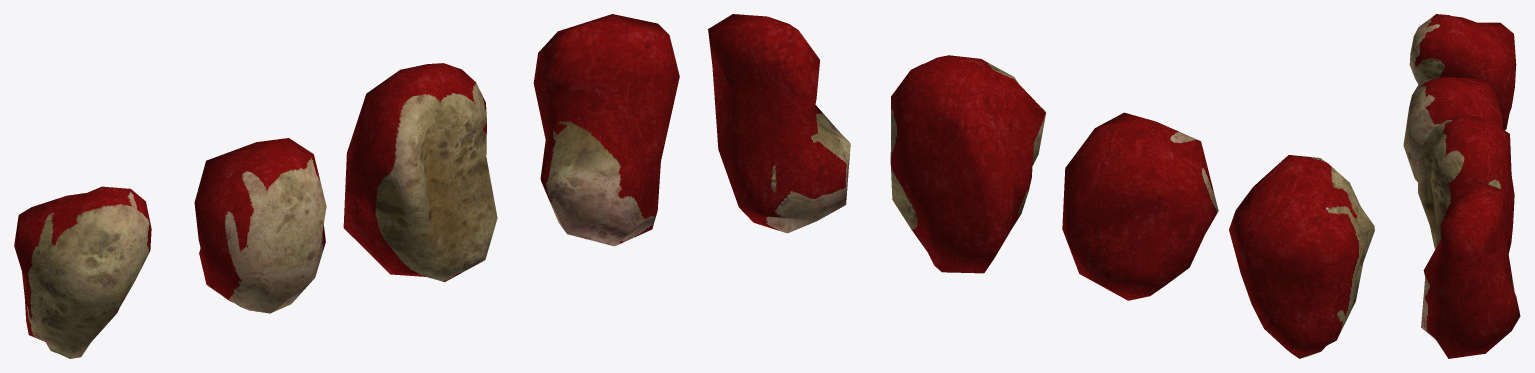
File: Meat-Chunks.fbx
3 renders of one model, left to right at view 1: azimuth 30°, elevation 25°; view 2: azimuth 150°, elevation 25°; view 3: azimuth 270°, elevation 25°, orthographic. The views are drawn at different scales.
Parts seen in each view (by area): view 1: Retopo_Cube.002, Retopo_Cube.004, Retopo_Cube.001, Retopo_Cube.003; view 2: Retopo_Cube.002, Retopo_Cube.004, Retopo_Cube.001, Retopo_Cube.003; view 3: Retopo_Cube.004, Retopo_Cube.002, Retopo_Cube.003, Retopo_Cube.001.
Boxes of the visible parts, <box> form: Retopo_Cube.002: <box>343,63,497,281</box>; Retopo_Cube.004: <box>533,14,679,246</box>; Retopo_Cube.001: <box>194,138,326,313</box>; Retopo_Cube.003: <box>14,186,151,358</box>; Retopo_Cube.002: <box>890,55,1046,273</box>; Retopo_Cube.004: <box>708,14,850,233</box>; Retopo_Cube.001: <box>1062,112,1218,300</box>; Retopo_Cube.003: <box>1229,155,1374,358</box>; Retopo_Cube.004: <box>1421,181,1520,358</box>; Retopo_Cube.002: <box>1418,116,1514,253</box>; Retopo_Cube.003: <box>1409,14,1516,130</box>; Retopo_Cube.001: <box>1403,77,1502,182</box>.
Size of the model in its own units: 1231 by 379 by 245.
